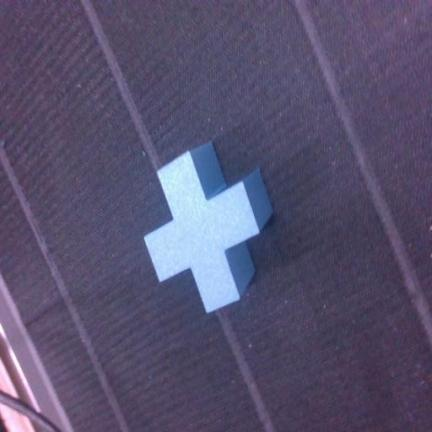cross: (145, 143, 272, 312)
